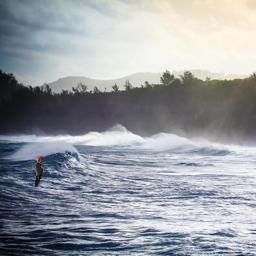Woodpecker: (28, 156, 43, 187)
